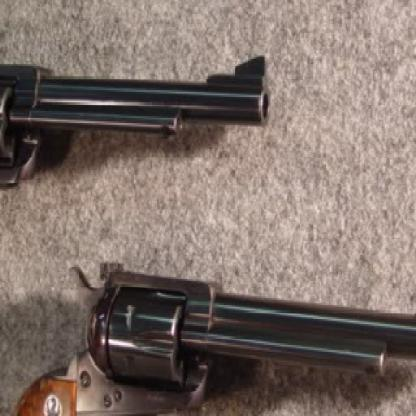gun: (0, 45, 280, 321), (0, 253, 415, 414)
